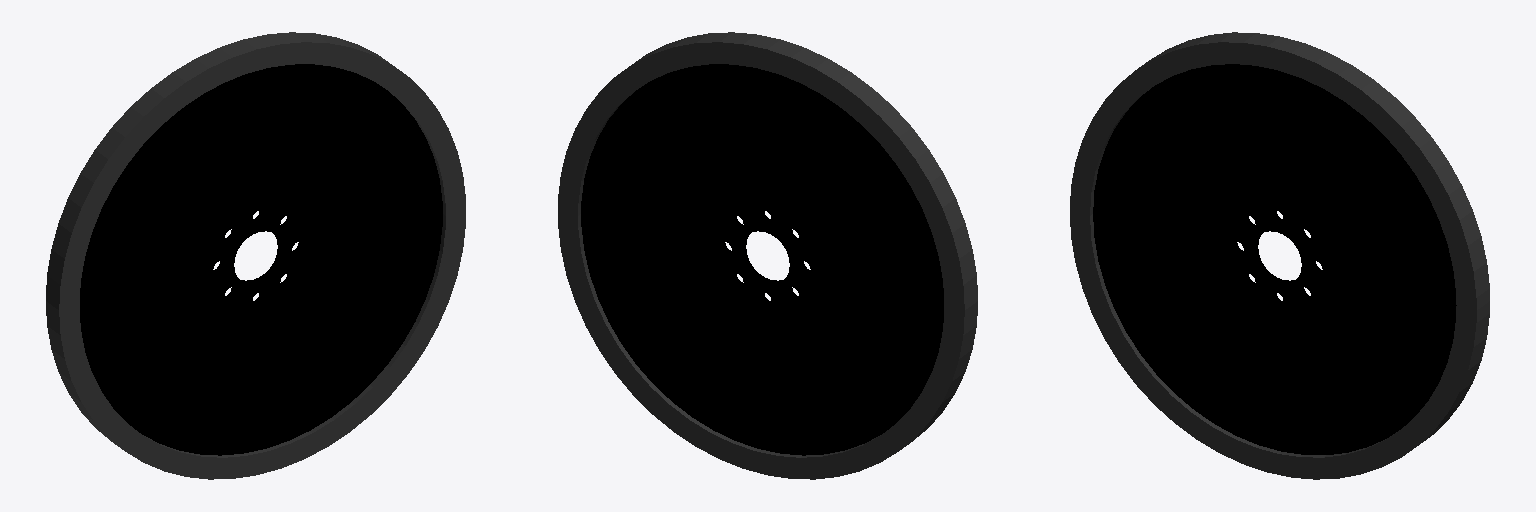
File: ROB-12204.obj
3 views of the same model, side by side, from view 1: azimuth 30°, elevation 25°; view 2: azimuth 150°, elevation 25°; view 3: azimuth 330°, elevation 25° (orthographic).
Parts seen in each view (by area): view 1: mesh 2 Boss-Extrude1, mesh 1 RO; view 2: mesh 2 Boss-Extrude1, mesh 1 RO; view 3: mesh 2 Boss-Extrude1, mesh 1 RO.
Part boxes in pixels (x1,y1,x2,y2): mesh 2 Boss-Extrude1: (80,64,442,455); mesh 1 RO: (46,32,465,479); mesh 2 Boss-Extrude1: (581,64,943,455); mesh 1 RO: (558,32,977,479); mesh 2 Boss-Extrude1: (1093,64,1456,454); mesh 1 RO: (1070,32,1489,479).
Size of the model in its own units: 0.1016 by 0.1016 by 0.0058.